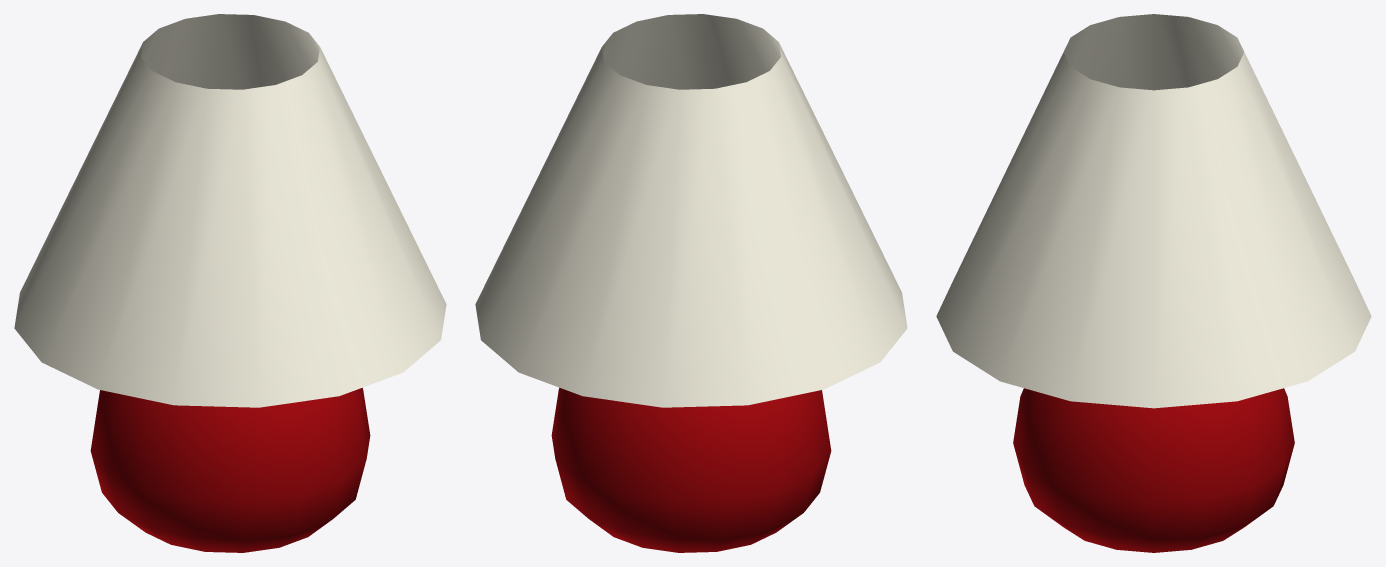
Rendered from Lamp_01.fbx.
3 views of the same model, side by side, from view 1: azimuth 30°, elevation 25°; view 2: azimuth 150°, elevation 25°; view 3: azimuth 270°, elevation 25° (orthographic).
Visible parts, largest first — view 1: Lamp_01; view 2: Lamp_01; view 3: Lamp_01.
Boxes of the visible parts, x1,y1,x2,y2 form: Lamp_01: [14, 14, 446, 552]; Lamp_01: [475, 14, 907, 552]; Lamp_01: [936, 14, 1371, 552].
Size of the model in its own units: 33.62 by 40.18 by 33.62.
